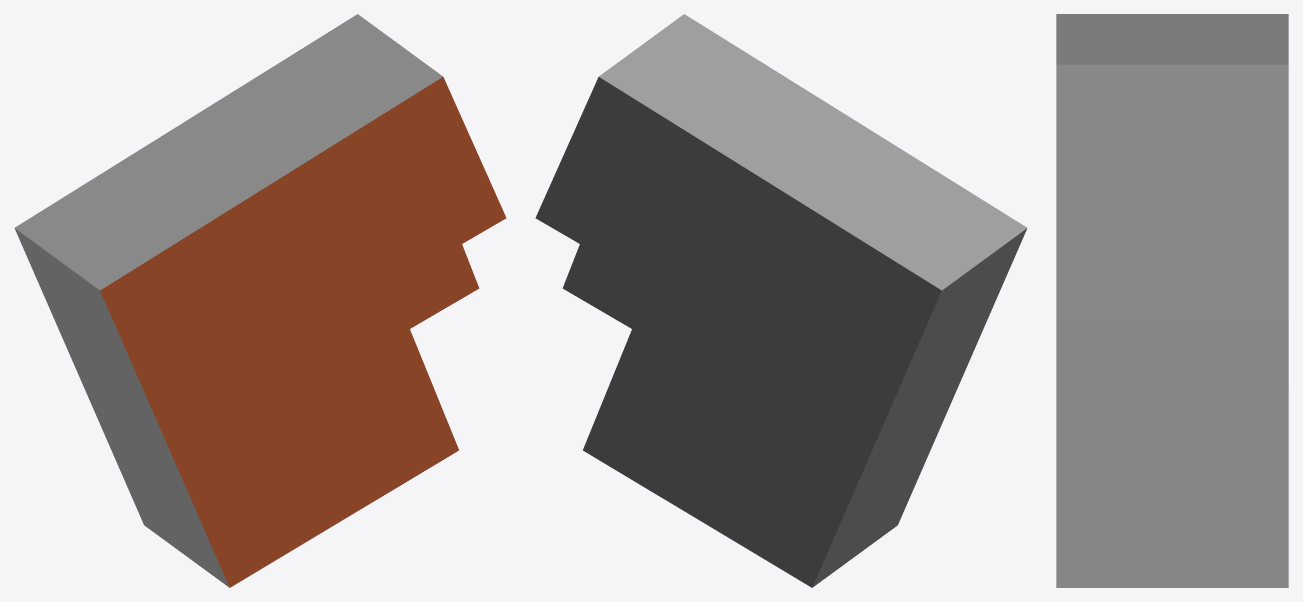
Rendered from construction_5230_assumed_A_Casa_h6m.obj.
3 renders of one model, left to right at view 1: azimuth 30°, elevation 25°; view 2: azimuth 150°, elevation 25°; view 3: azimuth 270°, elevation 25°, orthographic. The views are drawn at different scales.
Visible parts, largest first — view 1: construction_5230_assumed_A_Casa; view 2: construction_5230_assumed_A_Casa; view 3: construction_5230_assumed_A_Casa.
Part boxes in pixels (x1,y1,x2,y2): construction_5230_assumed_A_Casa: (14,14,506,587); construction_5230_assumed_A_Casa: (535,14,1027,587); construction_5230_assumed_A_Casa: (1056,14,1288,587).
Size of the model in its own units: 16.44 by 17.75 by 6.
